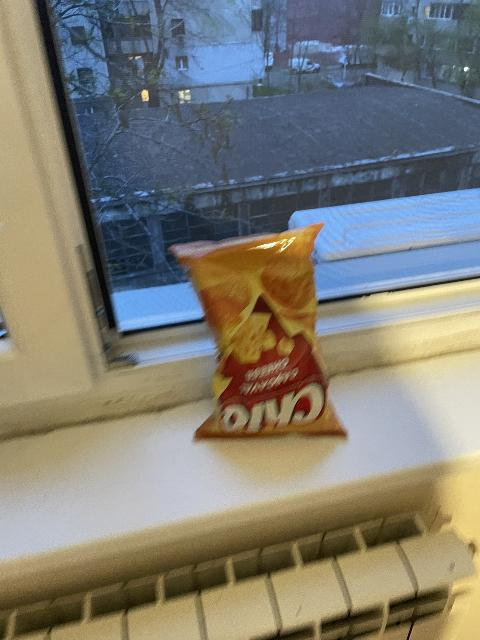Chio Cascaval 125g: (171, 220, 350, 437)
